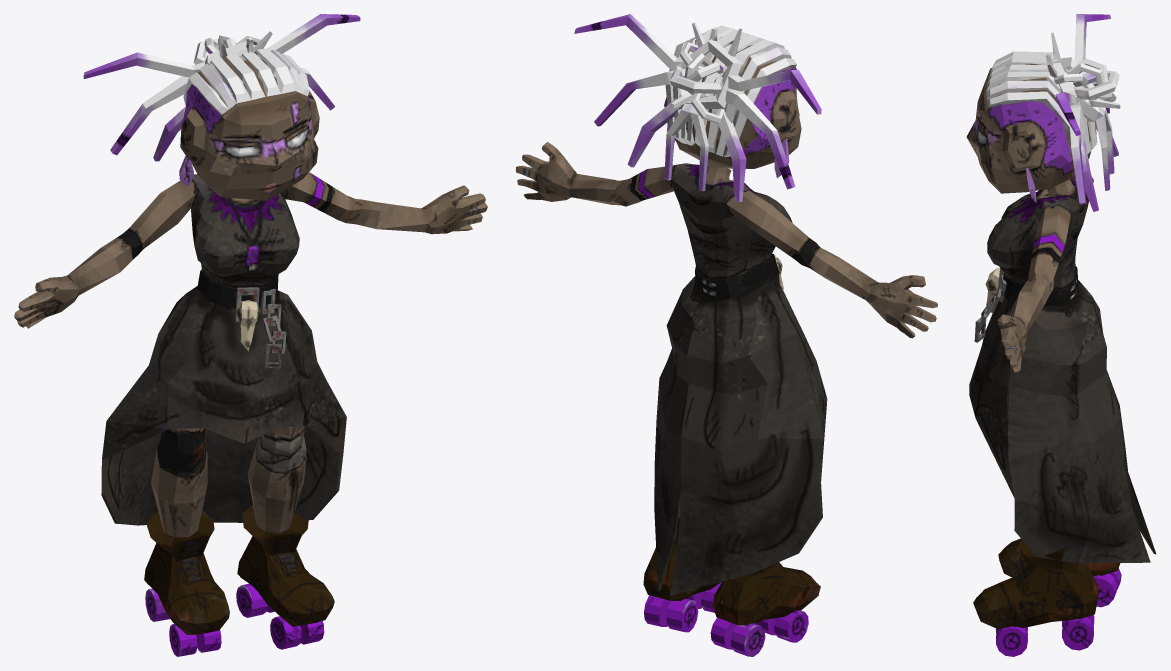
Rendered from bruja_000100.obj.
3 views of the same model, side by side, from view 1: azimuth 30°, elevation 25°; view 2: azimuth 150°, elevation 25°; view 3: azimuth 270°, elevation 25° (orthographic). The views are drawn at different scales.
Parts seen in each view (by area): view 1: Bruja_Plane.001; view 2: Bruja_Plane.001; view 3: Bruja_Plane.001.
Boxes of the visible parts, left/top/right/bottom form: Bruja_Plane.001: left=14, top=14, right=487, bottom=656; Bruja_Plane.001: left=516, top=14, right=937, bottom=656; Bruja_Plane.001: left=966, top=14, right=1156, bottom=656.
Size of the model in its own units: 12.68 by 16.55 by 4.84.
